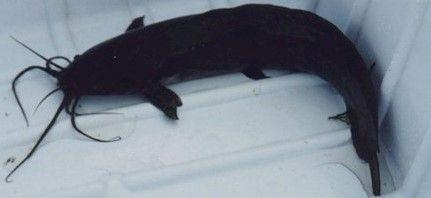Catfish: (43, 3, 385, 194)
